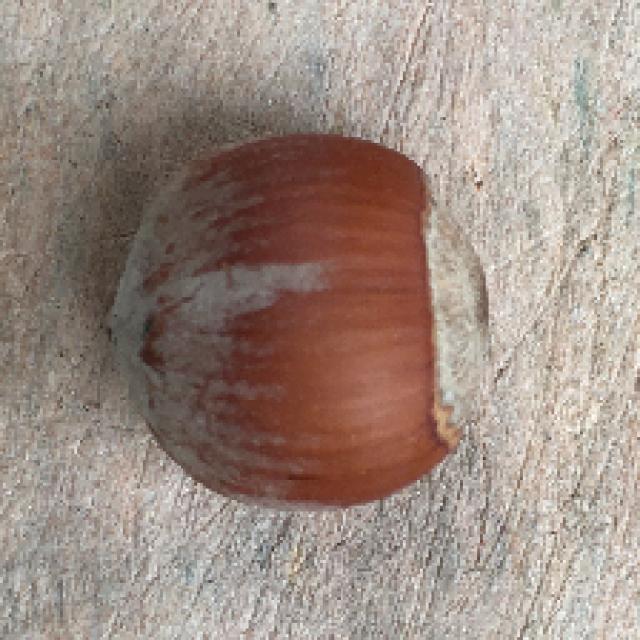qualityHazelnut: (104, 132, 507, 511)
